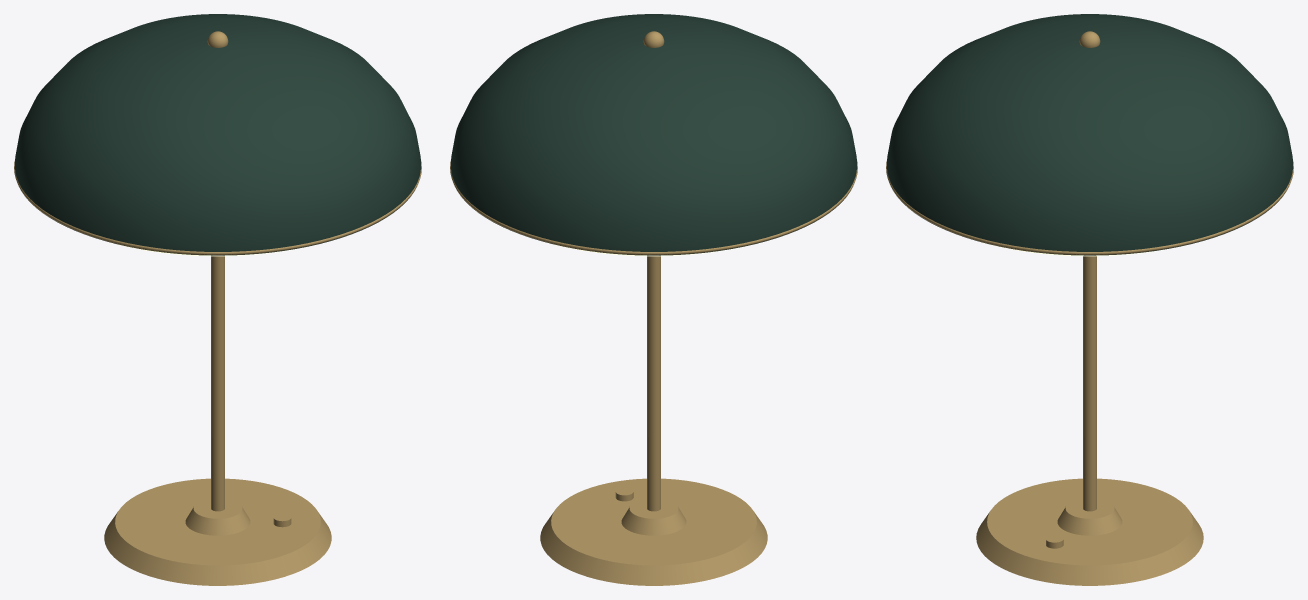
Rendered from arc-lamp.glb.
3 renders of one model, left to right at view 1: azimuth 30°, elevation 25°; view 2: azimuth 150°, elevation 25°; view 3: azimuth 270°, elevation 25°, orthographic.
Visible parts, largest first — view 1: Spun enamel shade, Weighted brass base, Stem, Base collar, Brass rim; view 2: Spun enamel shade, Weighted brass base, Stem, Base collar, Brass rim; view 3: Spun enamel shade, Weighted brass base, Stem, Base collar, Brass rim.
Part boxes in pixels (box(x1,y1,x2,y2)): Spun enamel shade: box(15, 14, 420, 255); Weighted brass base: box(104, 478, 331, 585); Stem: box(211, 256, 224, 511); Base collar: box(185, 498, 250, 535); Brass rim: box(14, 161, 421, 255); Spun enamel shade: box(451, 14, 856, 255); Weighted brass base: box(540, 478, 767, 585); Stem: box(647, 256, 660, 511); Base collar: box(621, 498, 686, 535); Brass rim: box(450, 161, 857, 255); Spun enamel shade: box(887, 14, 1292, 255); Weighted brass base: box(976, 478, 1203, 585); Stem: box(1083, 256, 1096, 511); Base collar: box(1057, 498, 1122, 535); Brass rim: box(886, 161, 1293, 255).
Size of the model in its own units: 1.51 by 2.06 by 1.51.
